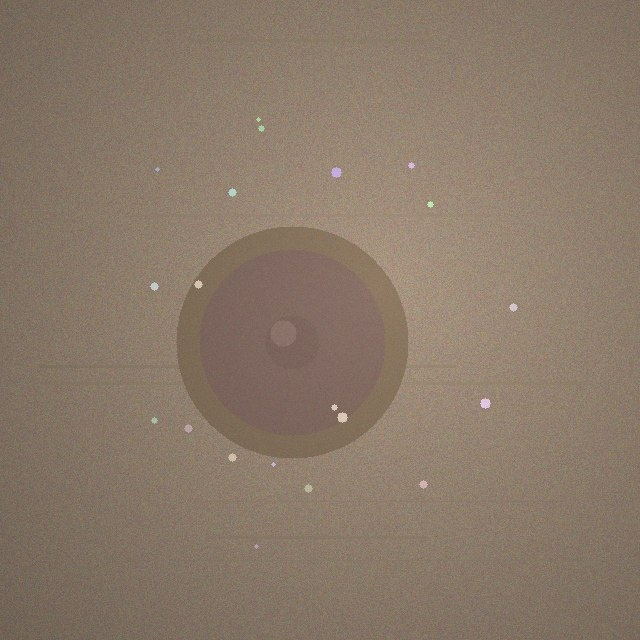overburn: (176, 226, 408, 458)
